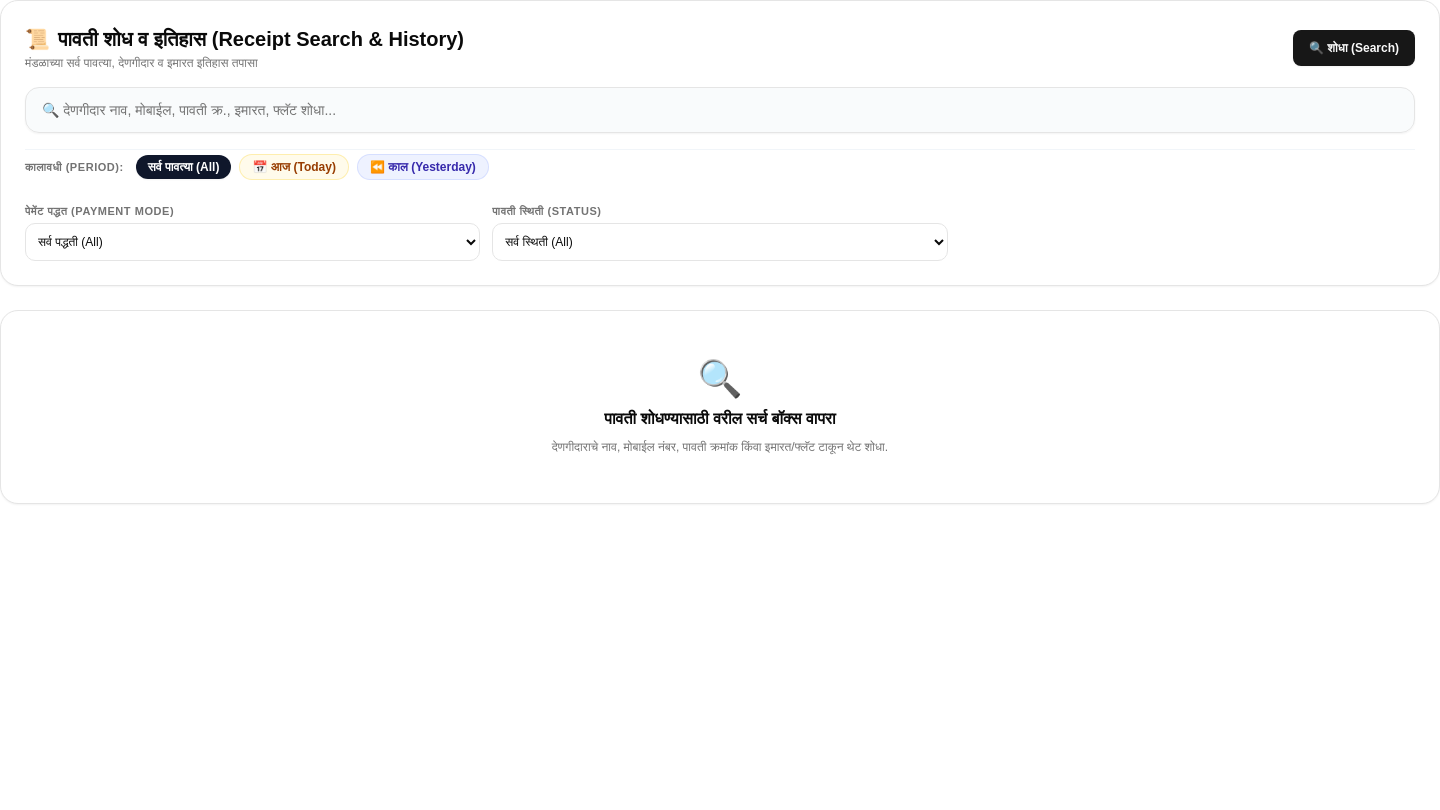
Test: ReceiptSearchPanel (Phase 2J - Direction C) › 10. shows error banner with retry button on RPC failure
The width and height of the screenshot is (1440, 810).
Click the button "🔍 शोधा (Search)" at (1354, 48), box [1293, 30, 1415, 66]
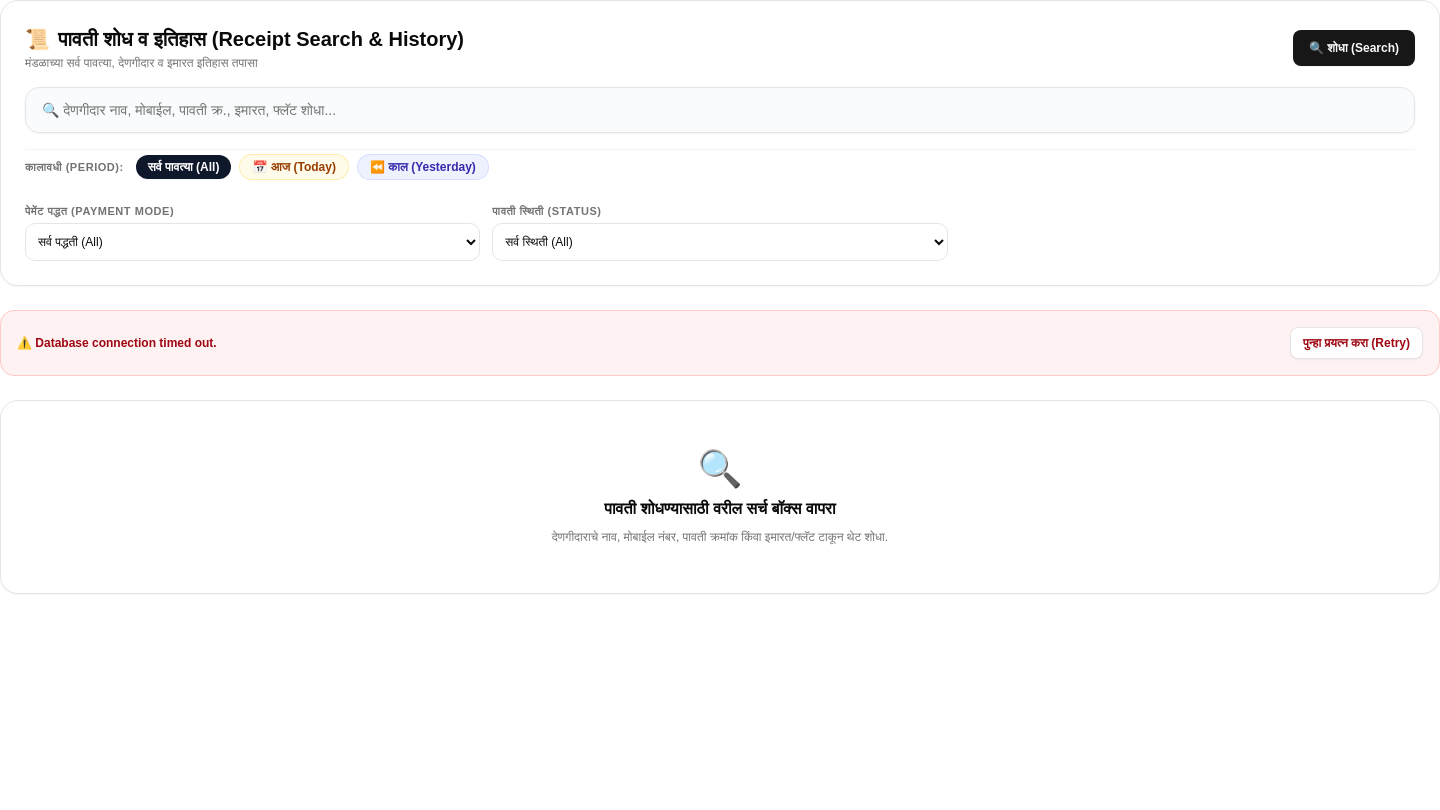
Check: the text "⚠️ Database connection timed out." is shown, box [17, 335, 217, 351]
Check: the button "पुन्हा प्रयत्न करा (Retry)" is shown, box [1290, 327, 1423, 359]
